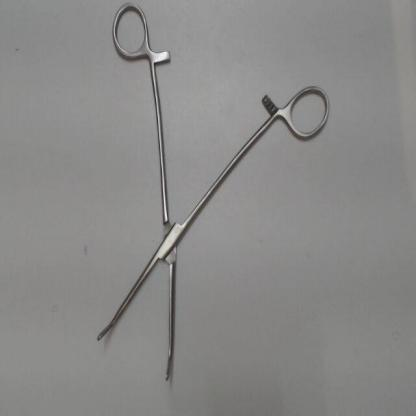Lahey Forceps: (86, 3, 342, 394)
